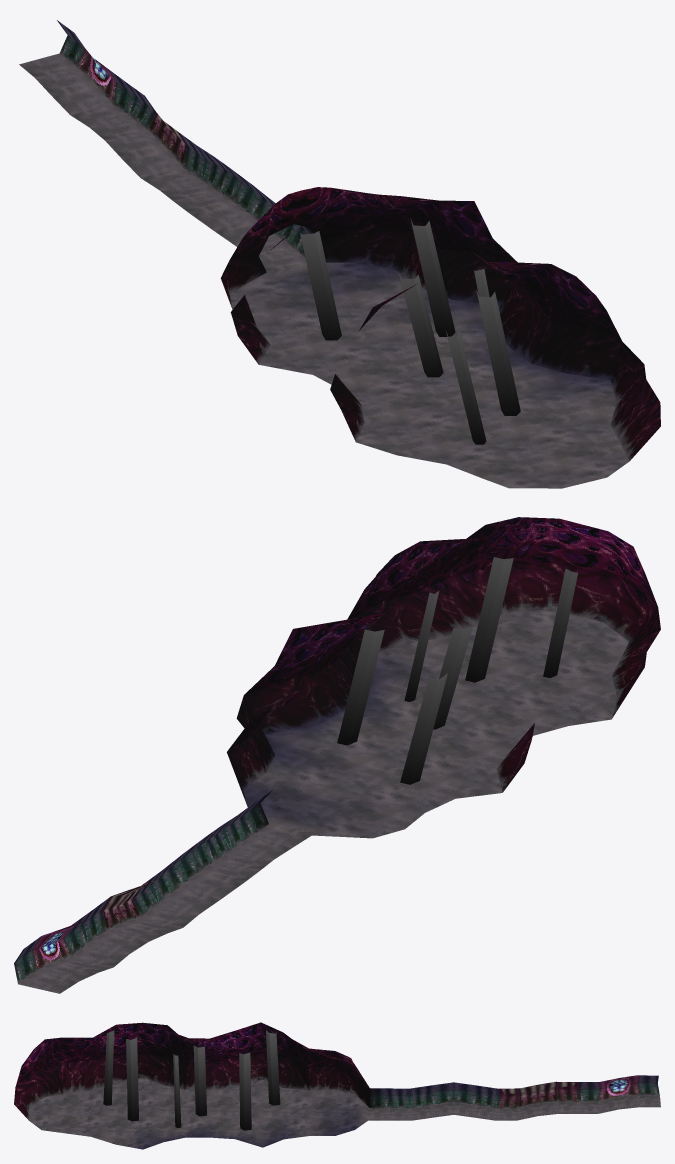
Rendered from AlienCave.glb.
3 views of the same model, one above another, from view 1: azimuth 30°, elevation 25°; view 2: azimuth 150°, elevation 25°; view 3: azimuth 270°, elevation 25° (orthographic). The views are drawn at different scales.
Visible parts, largest first — view 1: AlienCave_25, AlienCave_Alpha_46, AlienCave_23, AlienCave_20, AlienCave_24, AlienCave_22, AlienCave_21, AlienCave_31, AlienCave_14, AlienCave_13, AlienCave_30, AlienCave_17 (+7 smaller); view 2: AlienCave_25, AlienCave_Alpha_46, AlienCave_21, AlienCave_22, AlienCave_20, AlienCave_17, AlienCave_16, AlienCave_12, AlienCave_11, AlienCave_23, AlienCave_31, AlienCave_15 (+5 smaller); view 3: AlienCave_25, AlienCave_Alpha_46, AlienCave_20, AlienCave_24, AlienCave_23, AlienCave_21, AlienCave_22, AlienCave_31, AlienCave_15, AlienCave_18, AlienCave_19, AlienCave_13 (+15 smaller).
Part boxes in pixels (bbox=[...]): AlienCave_25: bbox=[19, 53, 629, 488]; AlienCave_Alpha_46: bbox=[300, 219, 520, 444]; AlienCave_23: bbox=[231, 252, 622, 441]; AlienCave_20: bbox=[396, 231, 660, 460]; AlienCave_24: bbox=[231, 248, 585, 422]; AlienCave_22: bbox=[230, 225, 643, 401]; AlienCave_21: bbox=[220, 225, 646, 423]; AlienCave_31: bbox=[59, 35, 309, 256]; AlienCave_14: bbox=[270, 200, 566, 330]; AlienCave_13: bbox=[441, 200, 606, 310]; AlienCave_30: bbox=[131, 97, 302, 247]; AlienCave_17: bbox=[230, 202, 368, 259]; AlienCave_25: bbox=[18, 611, 628, 993]; AlienCave_Alpha_46: bbox=[337, 557, 578, 784]; AlienCave_21: bbox=[227, 565, 646, 805]; AlienCave_22: bbox=[244, 565, 643, 792]; AlienCave_20: bbox=[227, 568, 660, 789]; AlienCave_17: bbox=[244, 535, 618, 694]; AlienCave_16: bbox=[289, 534, 559, 680]; AlienCave_12: bbox=[275, 519, 614, 665]; AlienCave_11: bbox=[310, 517, 559, 654]; AlienCave_23: bbox=[236, 581, 657, 753]; AlienCave_31: bbox=[14, 803, 268, 983]; AlienCave_15: bbox=[227, 536, 503, 751]; AlienCave_25: bbox=[29, 1078, 660, 1149]; AlienCave_Alpha_46: bbox=[103, 1030, 280, 1130]; AlienCave_20: bbox=[61, 1060, 335, 1094]; AlienCave_24: bbox=[35, 1058, 309, 1096]; AlienCave_23: bbox=[15, 1054, 292, 1107]; AlienCave_21: bbox=[91, 1057, 355, 1093]; AlienCave_22: bbox=[14, 1054, 369, 1120]; AlienCave_31: bbox=[369, 1083, 659, 1108]; AlienCave_15: bbox=[61, 1046, 335, 1067]; AlienCave_18: bbox=[15, 1038, 291, 1086]; AlienCave_19: bbox=[35, 1043, 308, 1070]; AlienCave_13: bbox=[22, 1022, 283, 1065].
Size of the model in its own units: 163 by 75 by 556.
47 materials, 47 textured.
